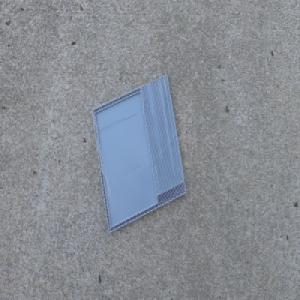PlasticPart: (90, 73, 187, 235)
